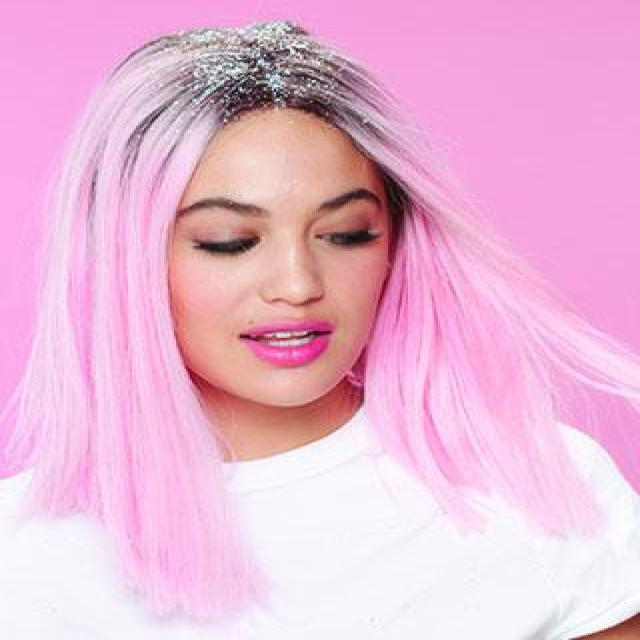mobile_phonerotation: (0, 17, 638, 638)
